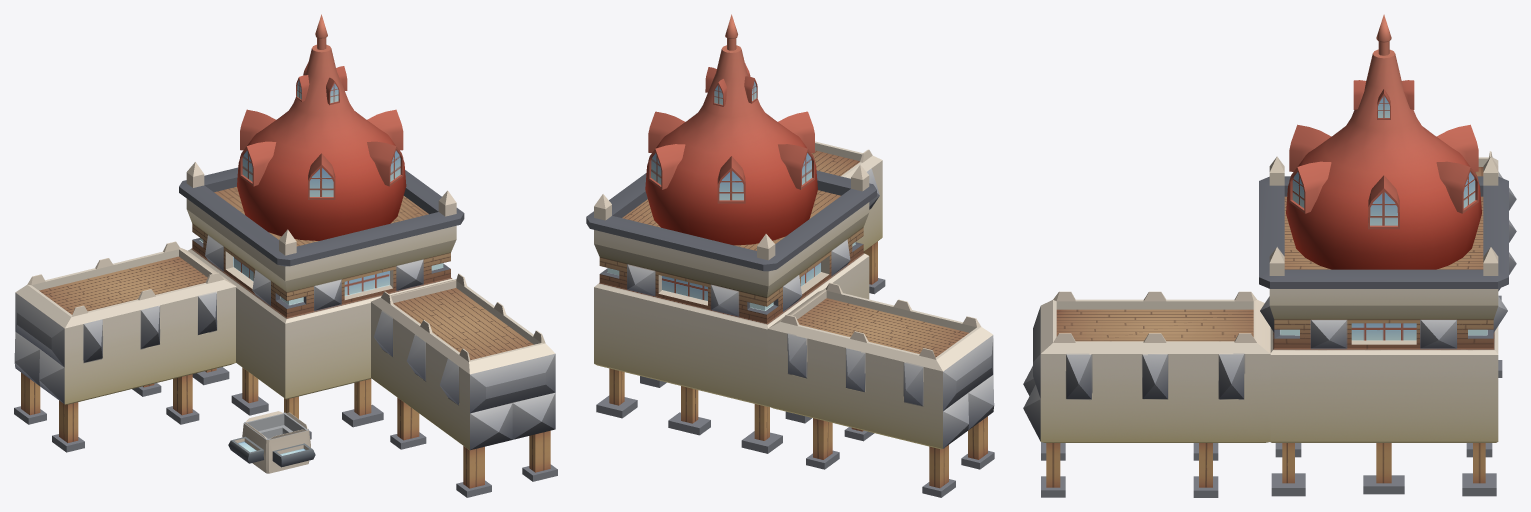
Rendered from Earthborn_TownCenter.fbx.
3 renders of one model, left to right at view 1: azimuth 30°, elevation 25°; view 2: azimuth 150°, elevation 25°; view 3: azimuth 270°, elevation 25°, orthographic. The views are drawn at different scales.
Parts seen in each view (by area): view 1: Earthborn_TownCenter; view 2: Earthborn_TownCenter; view 3: Earthborn_TownCenter.
Part boxes in pixels (box(x1,y1,x2,y2)): Earthborn_TownCenter: box(14, 14, 557, 497); Earthborn_TownCenter: box(586, 14, 994, 497); Earthborn_TownCenter: box(1023, 14, 1516, 497).
Size of the model in its own units: 3.25 by 3.16 by 3.25.
